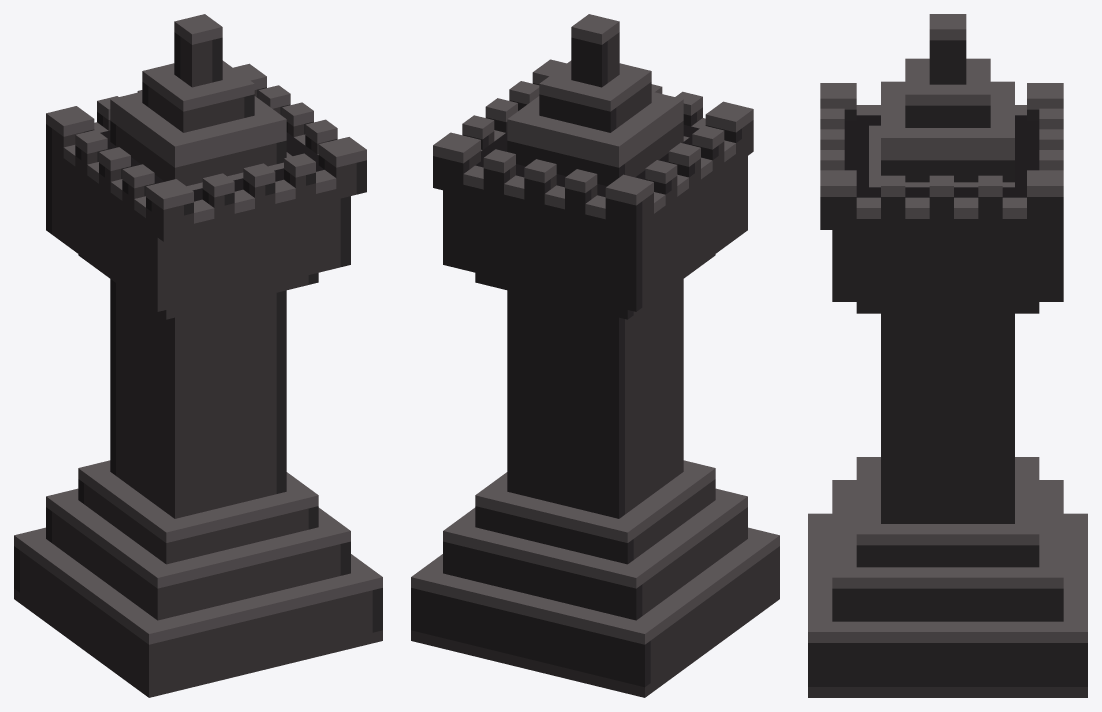
The model's file is queen_black.obj.
The picture shows the model from 3 angles, left to right: view 1: azimuth 30°, elevation 25°; view 2: azimuth 150°, elevation 25°; view 3: azimuth 270°, elevation 25°; orthographic projection. The views are drawn at different scales.
Visible parts, largest first — view 1: queen_black; view 2: queen_black; view 3: queen_black.
Part boxes in pixels (left/top/right/bottom): queen_black: left=14, top=14, right=382, bottom=697; queen_black: left=411, top=14, right=779, bottom=697; queen_black: left=808, top=14, right=1087, bottom=697.
Bounding box in the file's own units: 0.483 × 1.18 × 0.483.
1 material, 1 textured.
